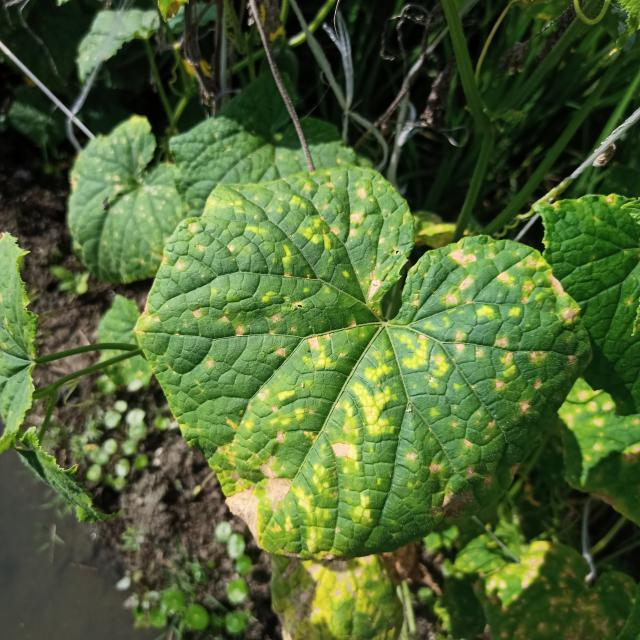disease_cucumber: (166, 182, 574, 556)
